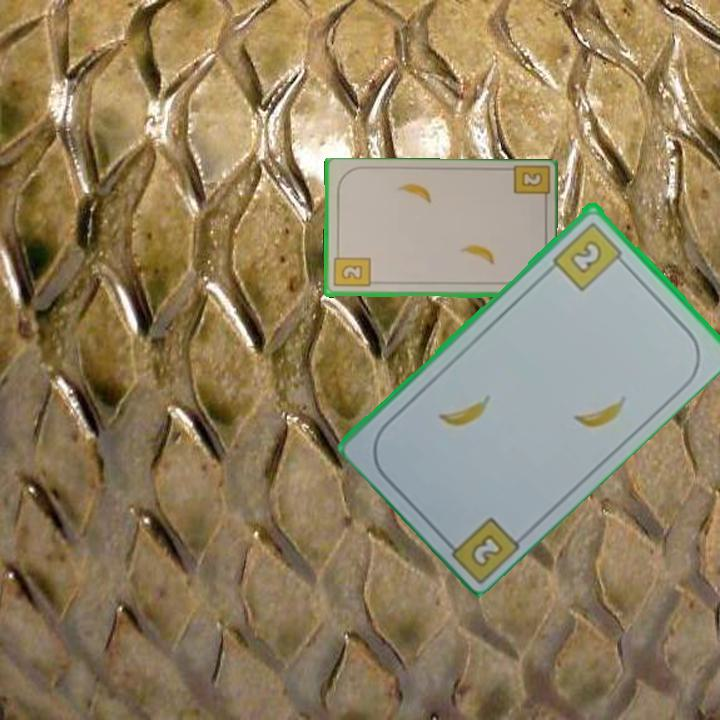2b: (549, 218, 629, 293), (508, 164, 550, 208), (330, 248, 372, 290), (467, 529, 506, 570)
